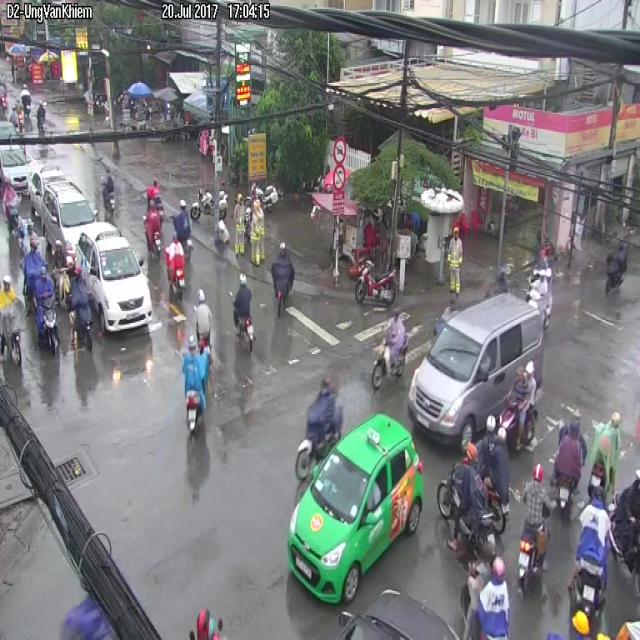car: (568, 484, 616, 619), (296, 381, 342, 481), (518, 464, 552, 591), (551, 421, 586, 519), (588, 410, 621, 498), (372, 313, 408, 388), (182, 339, 209, 433), (30, 261, 58, 351), (0, 274, 23, 366), (68, 264, 92, 350), (271, 243, 294, 316), (233, 274, 253, 351), (165, 236, 185, 298), (193, 290, 211, 354), (172, 200, 191, 258), (606, 241, 627, 292), (146, 204, 161, 252), (5, 185, 19, 230), (103, 170, 113, 210), (30, 240, 41, 259)
traffic-light: (288, 413, 423, 603), (407, 293, 543, 440), (77, 231, 152, 332), (31, 184, 102, 256)
